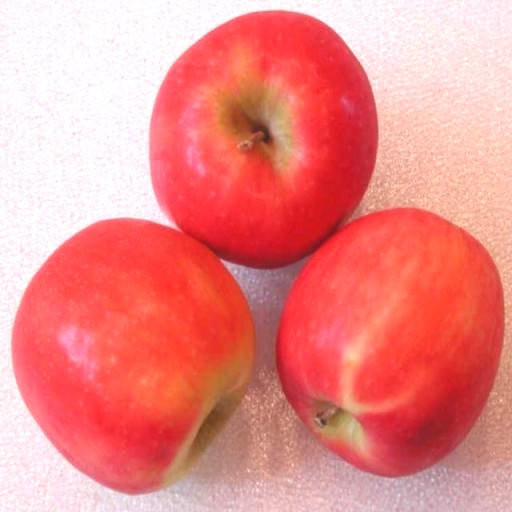fruit: (12, 219, 253, 493), (276, 209, 503, 475), (150, 12, 376, 267)
